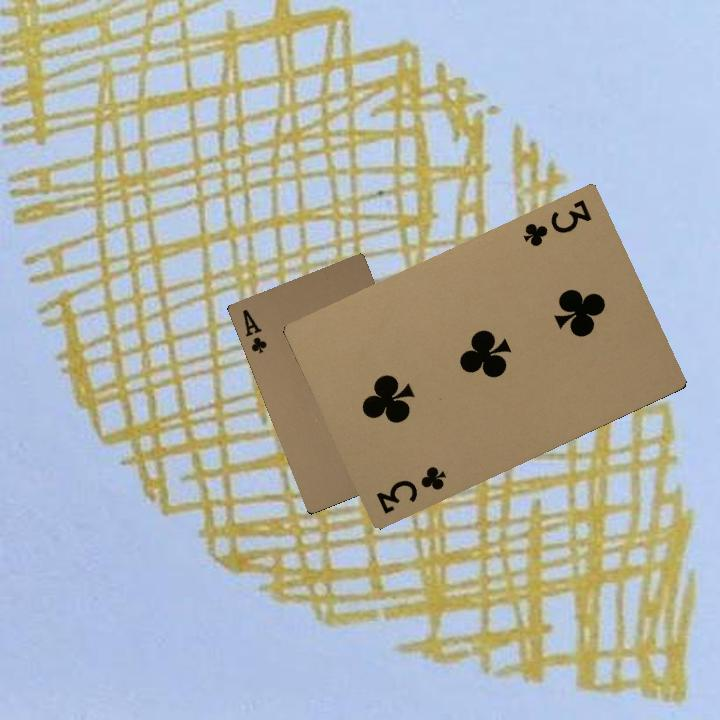3c: (371, 461, 448, 517), (519, 195, 595, 250)
Ac: (238, 305, 269, 356)
